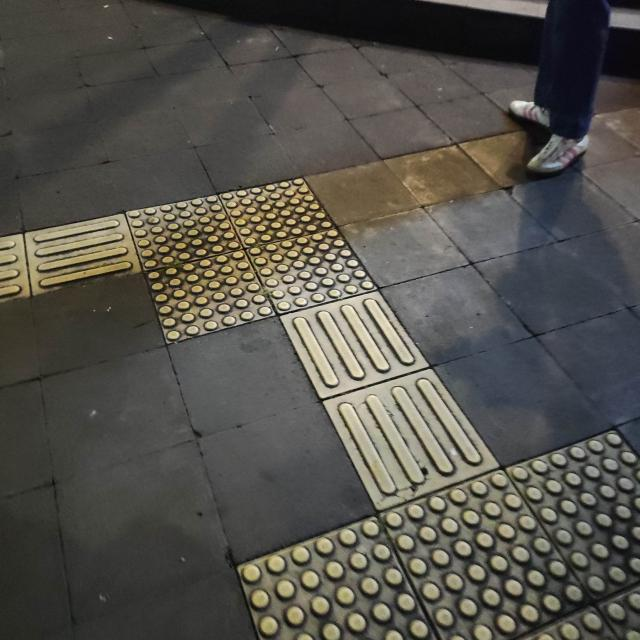kiri: (0, 177, 424, 378)
